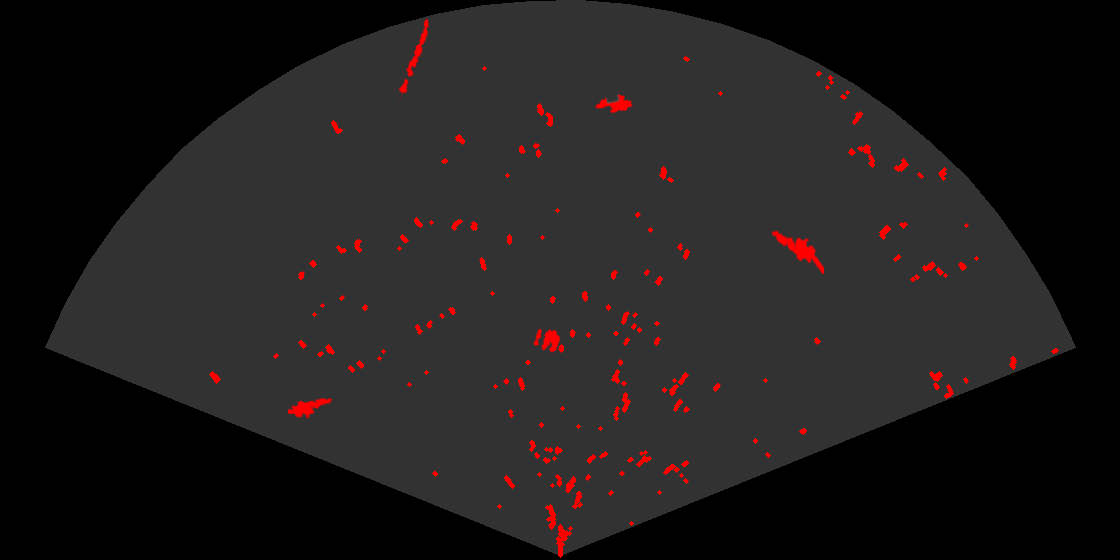AUV: (593, 92, 634, 115)
ball: (532, 327, 562, 355)
chain: (397, 17, 431, 100)
frogman: (768, 224, 824, 274), (288, 397, 332, 420)
